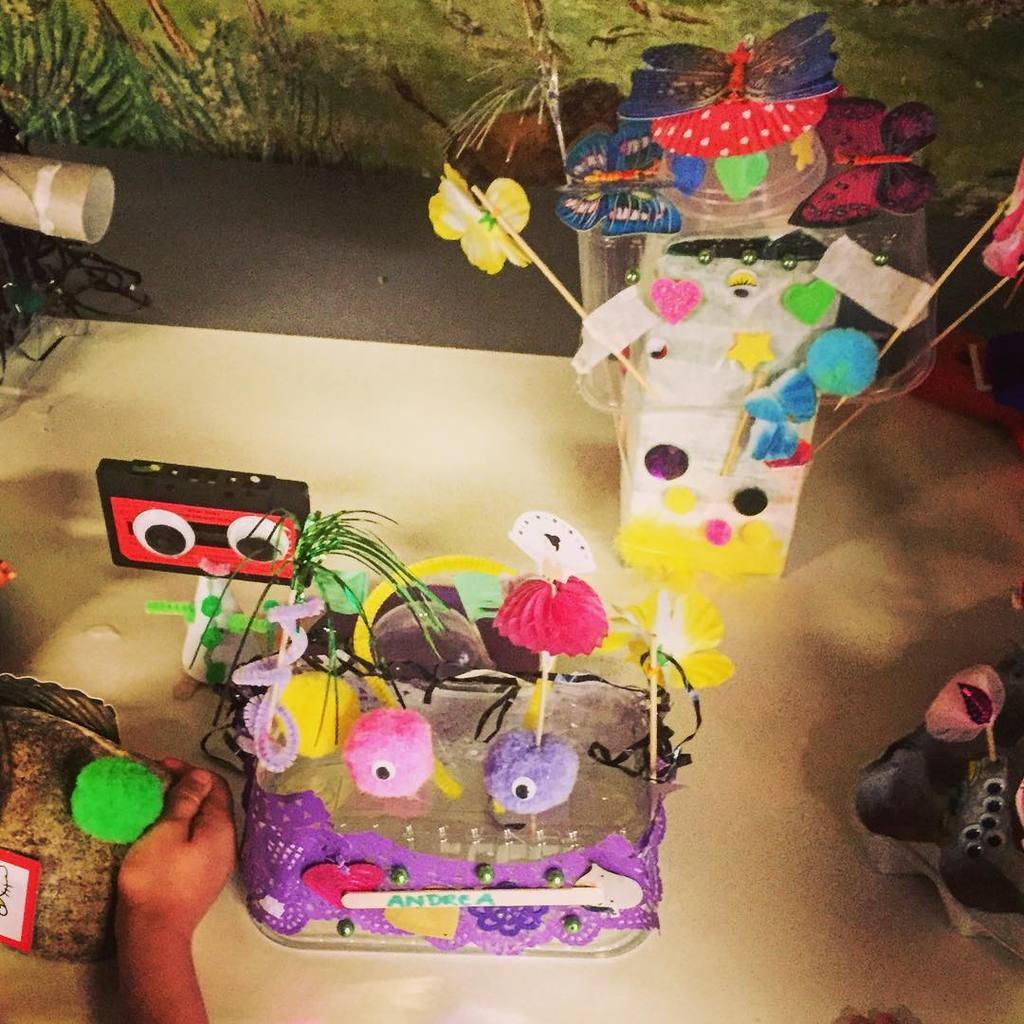cake: (251, 667, 678, 952)
